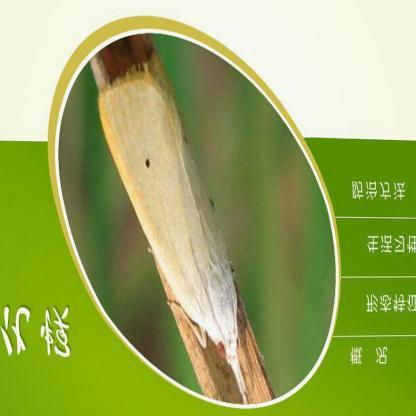stem-borer: (91, 52, 248, 406)
